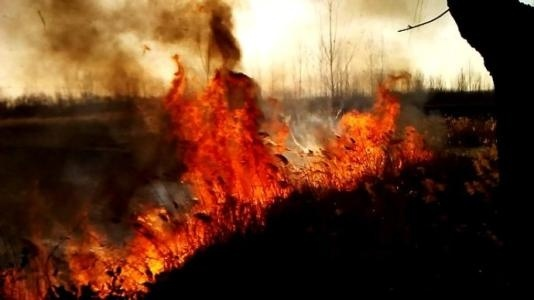fire: (26, 34, 486, 299)
